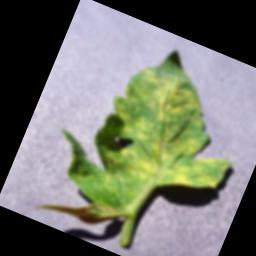Leaf_Mold: (42, 21, 256, 244)
